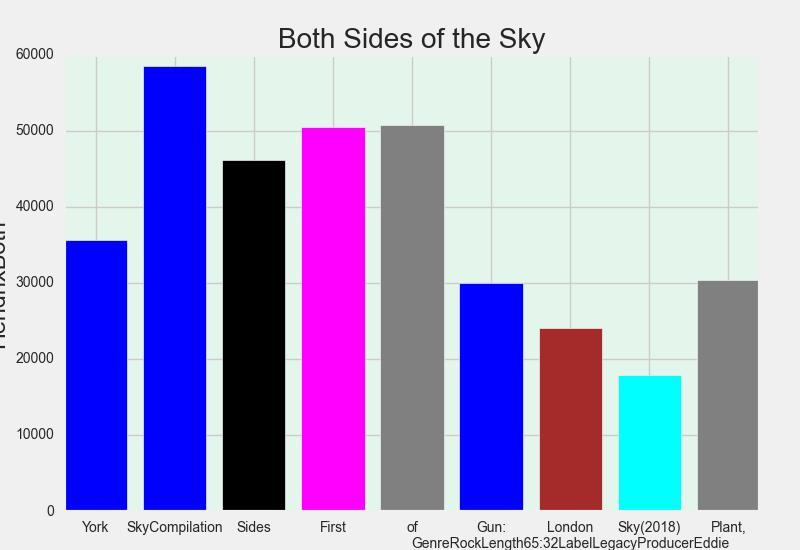axis: (0, 49, 54, 518)
rectangle: (143, 67, 206, 512), (380, 124, 444, 511), (302, 126, 364, 511), (222, 161, 286, 512), (64, 239, 127, 512), (697, 280, 760, 512), (460, 284, 522, 512), (538, 328, 602, 512), (618, 376, 681, 512)
